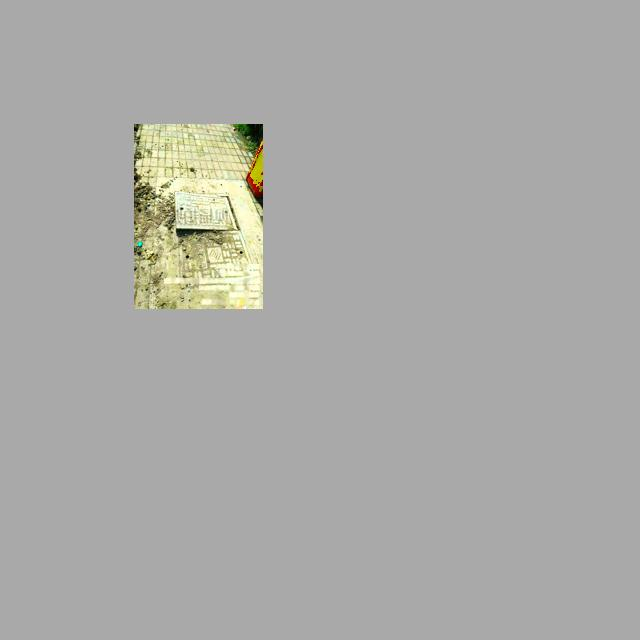uncovered: (175, 191, 258, 291)
